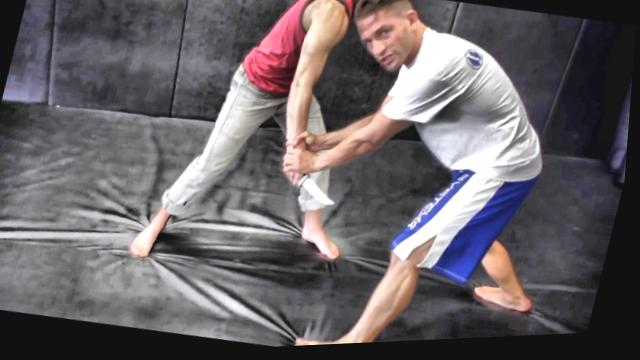knife: (275, 164, 350, 215)
